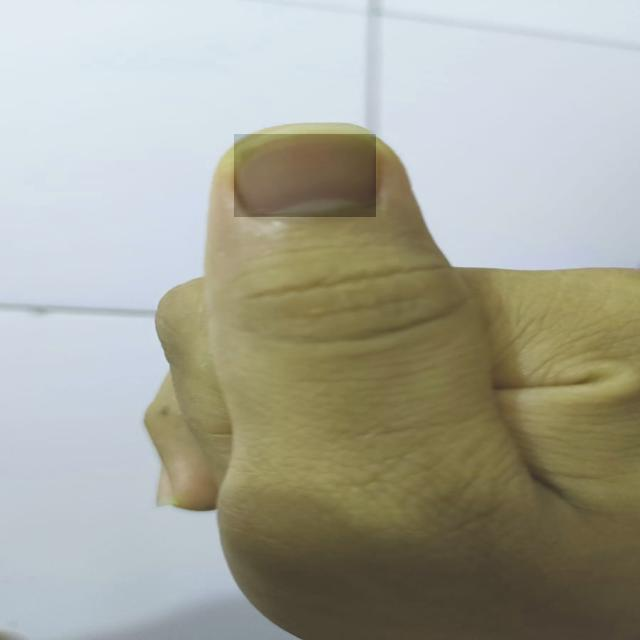sehat: (235, 134, 376, 217)
